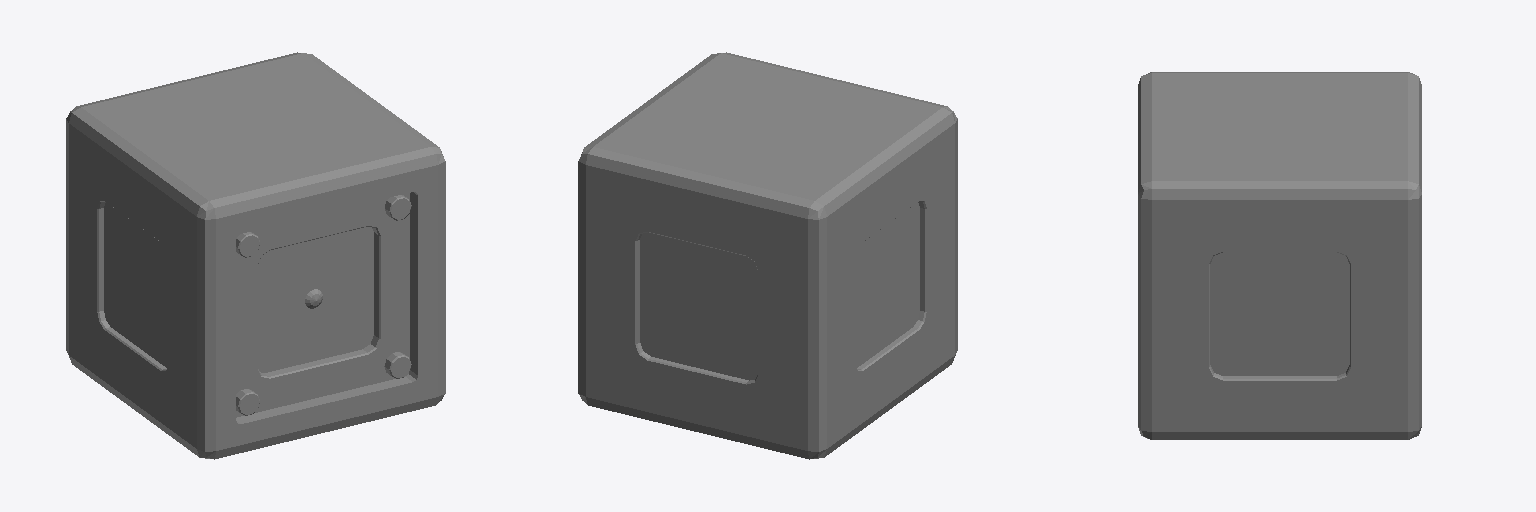
File: cpz_obj_blocks_3b.obj
3 renders of one model, left to right at view 1: azimuth 30°, elevation 25°; view 2: azimuth 150°, elevation 25°; view 3: azimuth 270°, elevation 25°, orthographic.
Visible parts, largest first — view 1: cpz_metal_st1_box01_cmn_dsn, cpz_etc_tn1_motionlight01; view 2: cpz_metal_st1_box01_cmn_dsn, cpz_etc_tn1_motionlight01; view 3: cpz_metal_st1_box01_cmn_dsn, cpz_etc_tn1_motionlight01.
Boxes of the visible parts, x1=… form: cpz_metal_st1_box01_cmn_dsn: x1=66, y1=52, x2=445, y2=459; cpz_etc_tn1_motionlight01: x1=104, y1=202, x2=373, y2=372; cpz_metal_st1_box01_cmn_dsn: x1=578, y1=52, x2=957, y2=459; cpz_etc_tn1_motionlight01: x1=640, y1=202, x2=919, y2=380; cpz_metal_st1_box01_cmn_dsn: x1=1138, y1=72, x2=1421, y2=439; cpz_etc_tn1_motionlight01: x1=1210, y1=252, x2=1349, y2=375.
Bounding box in the file's own units: 108 × 108 × 108.